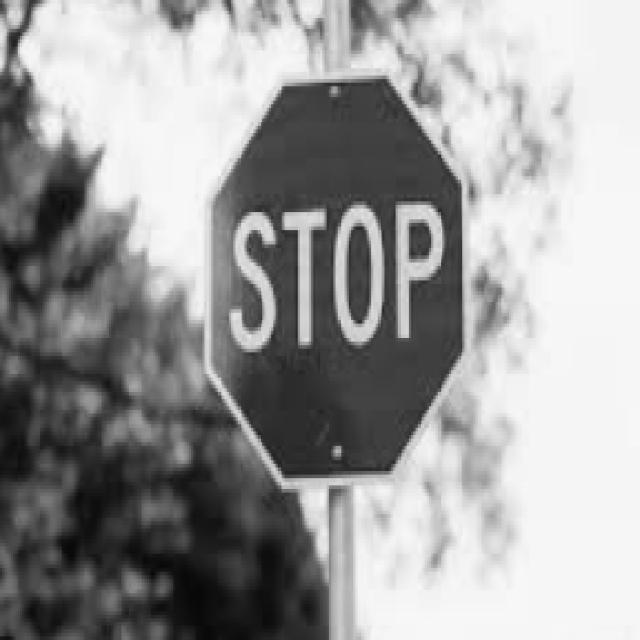Stop-signs: (205, 69, 470, 490)
